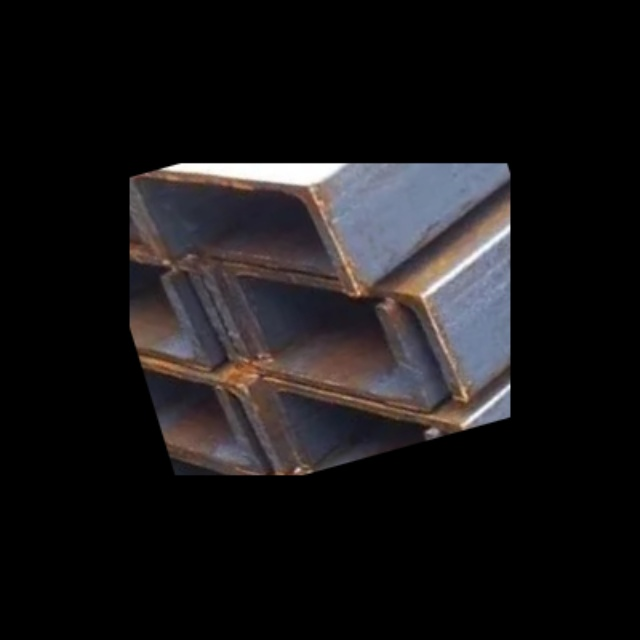Shveller: (228, 218, 465, 447), (196, 230, 428, 456), (130, 163, 356, 346), (132, 307, 285, 475), (281, 344, 476, 474), (242, 356, 437, 475), (130, 203, 242, 380)
